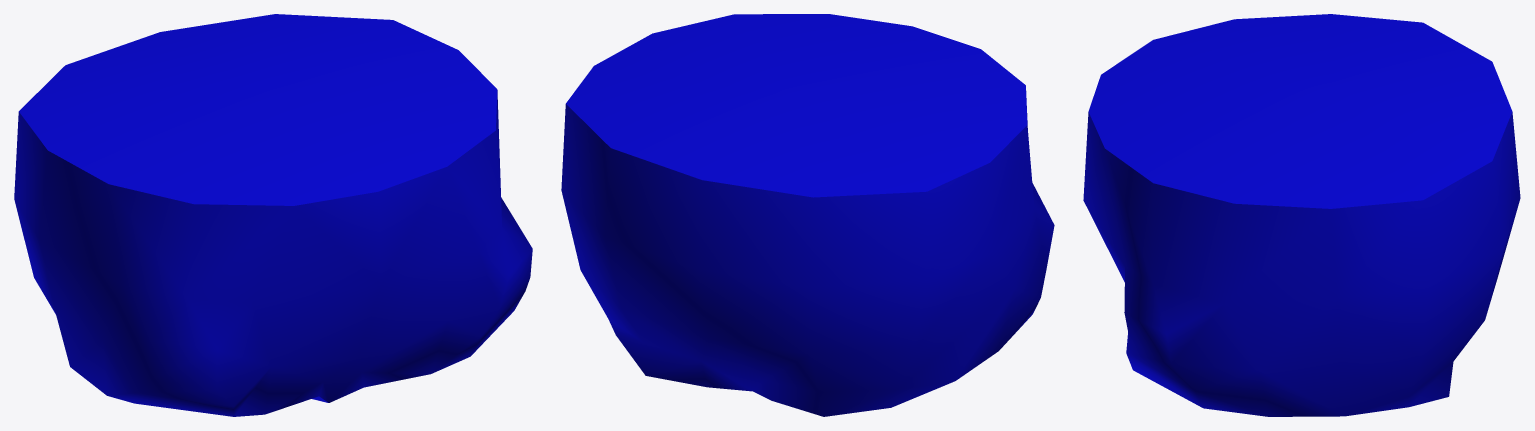
File: hips_49.glb
The picture shows the model from 3 angles, left to right: view 1: azimuth 30°, elevation 25°; view 2: azimuth 150°, elevation 25°; view 3: azimuth 270°, elevation 25°; orthographic projection. The views are drawn at different scales.
Parts seen in each view (by area): view 1: hips; view 2: hips; view 3: hips.
Boxes of the visible parts, x1,y1,x2,y2 form: hips: (14, 14, 532, 416); hips: (561, 14, 1054, 416); hips: (1083, 14, 1520, 416).
Bounding box in the file's own units: 0.4058 × 0.2546 × 0.3747.
